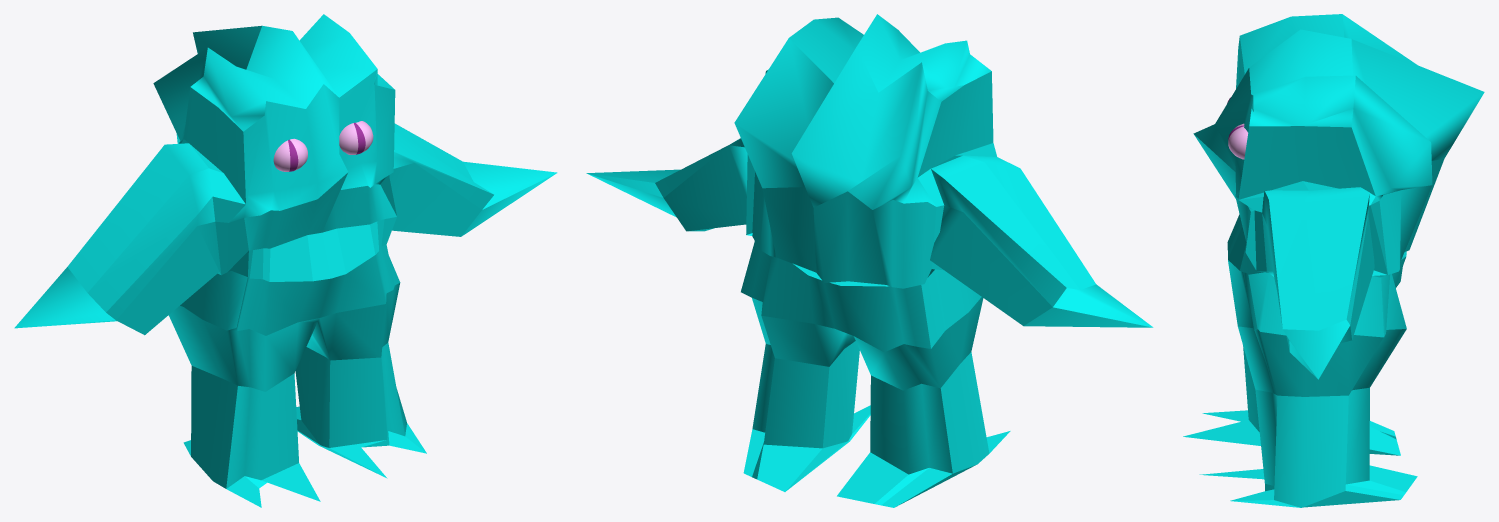
Rendered from MOD_HP_Rykan.fbx.
The picture shows the model from 3 angles, left to right: view 1: azimuth 30°, elevation 25°; view 2: azimuth 150°, elevation 25°; view 3: azimuth 270°, elevation 25°; orthographic projection. The views are drawn at different scales.
Visible parts, largest first — view 1: polySurface3404, pSphere5; view 2: polySurface3404; view 3: polySurface3404, pSphere5.
Boxes of the visible parts, x1=… form: polySurface3404: x1=14, y1=14, x2=557, y2=507; pSphere5: x1=273, y1=121, x2=373, y2=171; polySurface3404: x1=586, y1=14, x2=1153, y2=507; polySurface3404: x1=1183, y1=14, x2=1484, y2=507; pSphere5: x1=1227, y1=97, x2=1248, y2=159.
Bounding box in the file's own units: 252 × 189 × 120.
